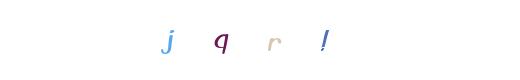J: (182, 0, 262, 80)
L: (220, 0, 300, 80)
Q: (197, 0, 277, 80)
R: (209, 0, 289, 80)
